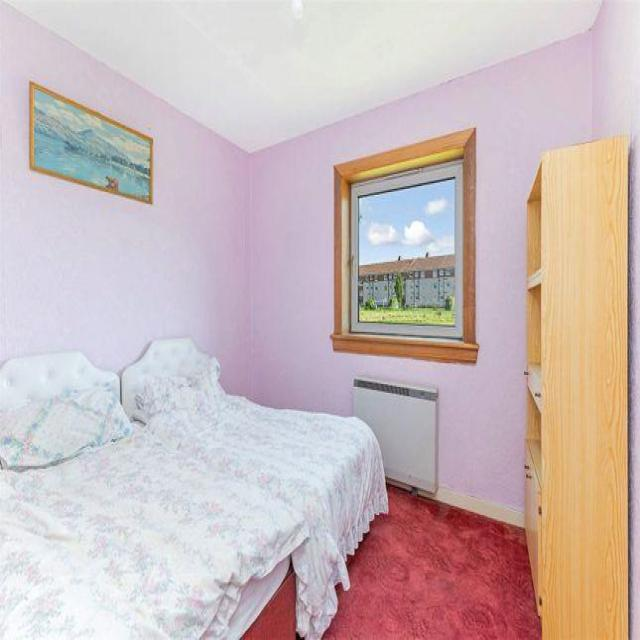Wall: (0, 2, 640, 637), (6, 0, 601, 151), (324, 486, 541, 639), (349, 357, 476, 397), (0, 37, 29, 175)
